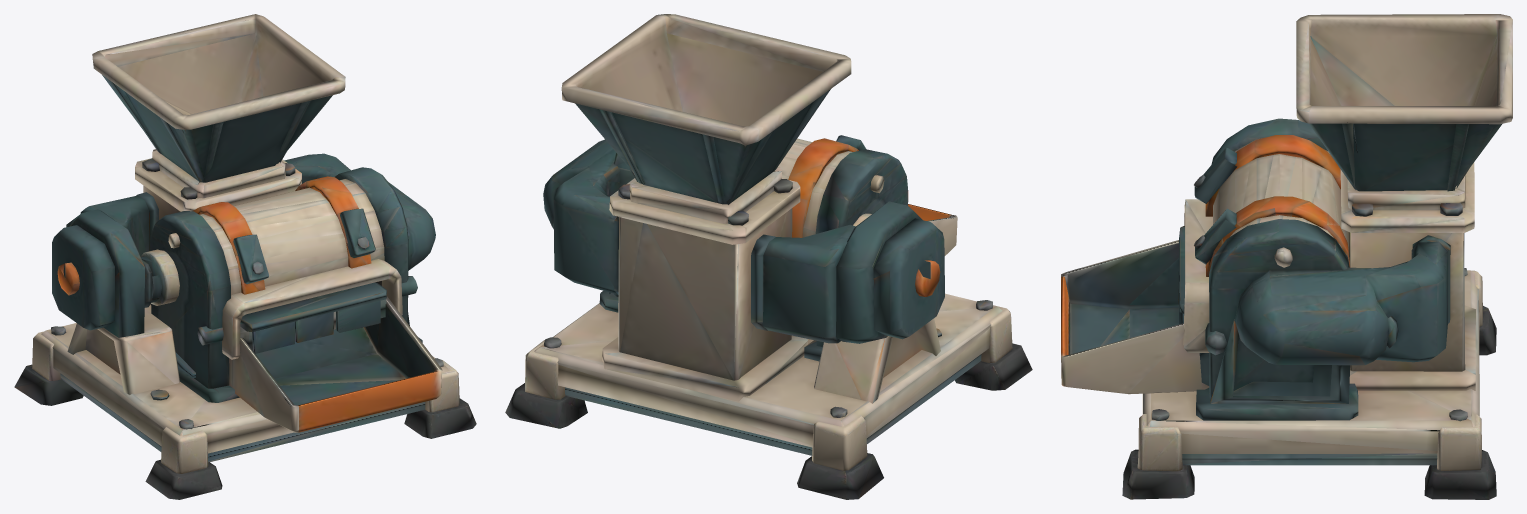
The model's file is processor-lod0.c3aee11913bf.glb.
3 views of the same model, side by side, from view 1: azimuth 30°, elevation 25°; view 2: azimuth 150°, elevation 25°; view 3: azimuth 270°, elevation 25° (orthographic). The views are drawn at different scales.
Parts seen in each view (by area): view 1: geometry_0; view 2: geometry_0; view 3: geometry_0.
Boxes of the visible parts, box(x1,y1,x2,y2) form: geometry_0: box(14, 14, 476, 499); geometry_0: box(505, 14, 1032, 499); geometry_0: box(1061, 14, 1512, 499).
Bounding box in the file's own units: 1 × 0.8761 × 1.
1 material, 1 textured.
